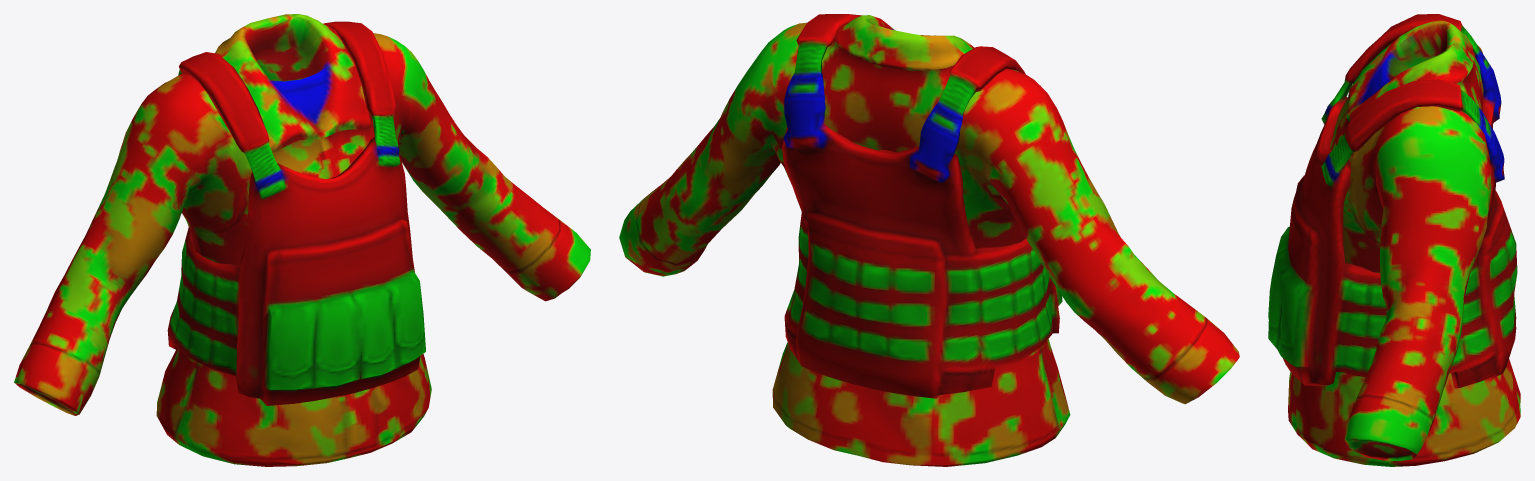
The model's file is Top_CamoJacketVest_2199.obj.
3 views of the same model, side by side, from view 1: azimuth 30°, elevation 25°; view 2: azimuth 150°, elevation 25°; view 3: azimuth 270°, elevation 25° (orthographic). The views are drawn at different scales.
Parts seen in each view (by area): view 1: Top_CamoJacketVest_0; view 2: Top_CamoJacketVest_0; view 3: Top_CamoJacketVest_0.
Part boxes in pixels (bbox=[...]): Top_CamoJacketVest_0: bbox=[14, 14, 590, 466]; Top_CamoJacketVest_0: bbox=[619, 14, 1239, 466]; Top_CamoJacketVest_0: bbox=[1268, 14, 1520, 466].
Size of the model in its own units: 0.9312 by 0.6003 by 0.3621.
Materials: 1 (1 with a texture image).
